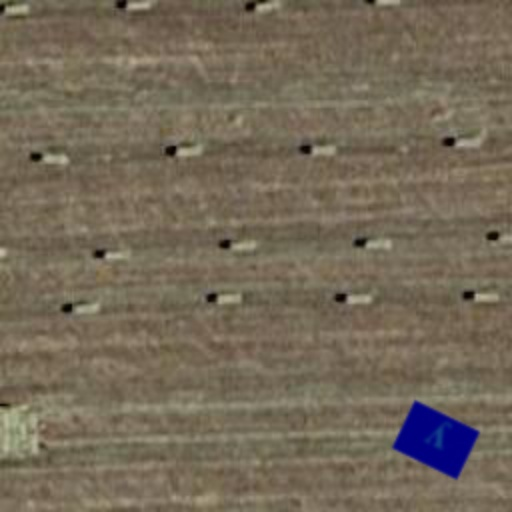rectangle: (386, 390, 486, 490)
